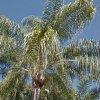Palm tree: (4, 8, 85, 99)
